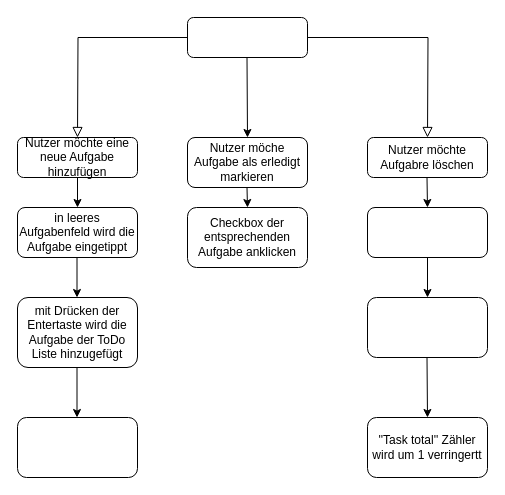
This 505x495 diagram has some shape labels left out. The shapes that lost their labels are listed below. From the top down, each one's centre as x and y in pixels, then its label:
the point at 247,37: To do App
the point at 427,232: Klick auf den Mülleimerbutton
the point at 427,327: Aufgabe wird aus ToDo Liste entfernt
the point at 77,447: ''Task total'' Zähler wird um 1 hochgesetzt
